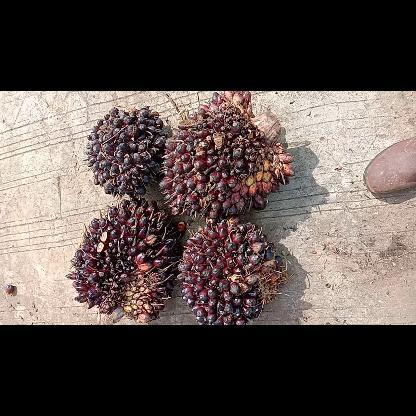TBS mentah: (157, 90, 297, 226), (64, 196, 180, 324), (176, 216, 288, 324), (84, 102, 168, 200)
